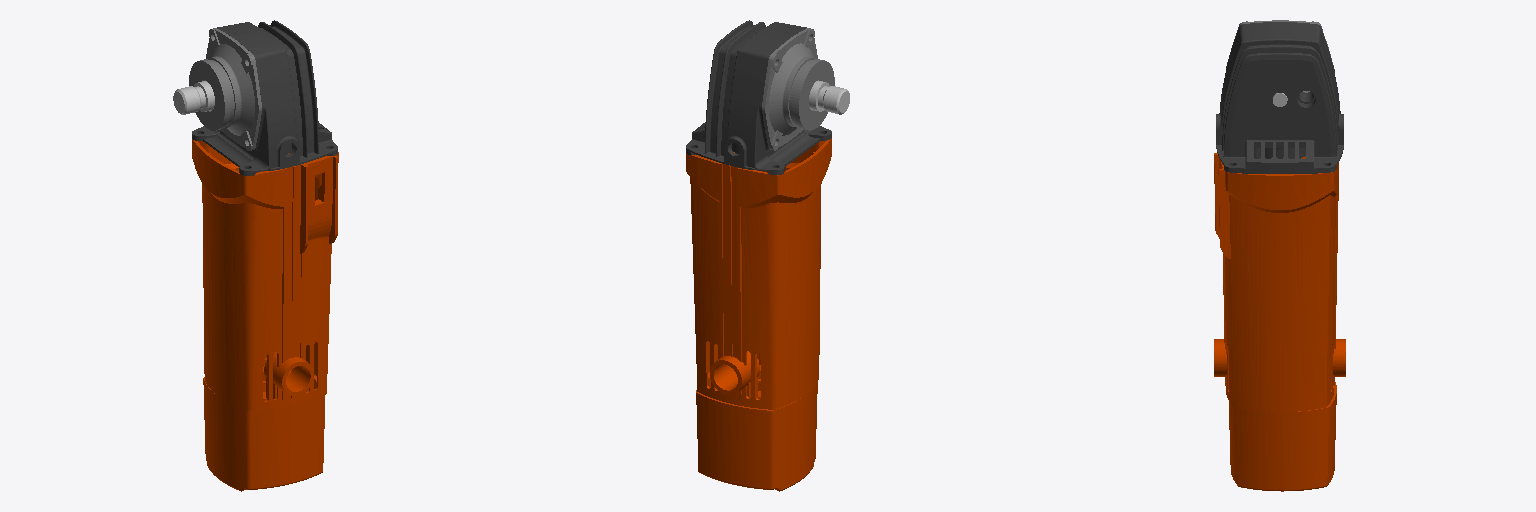
URDF robot description (grinder):
<?xml version="1.0" ?>
<robot name="grinder">
  <link name="baseLink">
    <contact>
      <lateral_friction value="5.0"/>
      <rolling_friction value="0.3"/>
      <contact_cfm value="0.3"/>
      <contact_erp value="0.8"/>
      <damping value="1.0"/>
    </contact>
    <inertial>
      <origin rpy="0 0 0" xyz="0 0 0.0"/>
       <mass value="1"/>
       <inertia ixx="1" ixy="0" ixz="0" iyy="1" iyz="0" izz="5"/>
    </inertial>
    <visual>
      <origin rpy="0 0 0" xyz="30 0 0"/>
      <geometry>
		<mesh filename="mesh/noname_housing01.stl"/>
      </geometry>
       <material name="orange">
        <color rgba="0.8 0.3 0.0 1"/>
      </material>
    </visual>
    <collision>
      <origin rpy="0 0 0" xyz="30 0 0"/>
      <geometry>
        <mesh filename="mesh/noname_housing01.stl"/>
      </geometry>
    </collision>
  </link>
    <link name="housing02">
    <visual>
      <origin rpy="0 0 0" xyz="30 0 0"/>
      <geometry>
		<mesh filename="mesh/noname_housing02.stl"/>
      </geometry>
       <material name="dark">
        <color rgba="0.3 0.3 0.3 1"/>
      </material>
    </visual>
  </link>
  <link name="housing03">
    <visual>
      <origin rpy="0 0 0" xyz="30 0 0"/>
      <geometry>
		<mesh filename="mesh/noname_housing03.stl"/>
      </geometry>
       <material name="grey1">
        <color rgba="0.5 0.5 0.5 1"/>
      </material>
    </visual>
  </link>
  <link name="axle">
    <visual>
      <origin rpy="0 0 0" xyz="30 0 0"/>
      <geometry>
		<mesh filename="mesh/noname_axle.stl"/>
      </geometry>
       <material name="grey2">
        <color rgba="0.75 0.75 0.75 1"/>
      </material>
    </visual>
  </link>
  <joint name="l1" type="fixed">
      <parent link="baseLink"/>
      <child link="housing02"/>
      <origin xyz="0 0 0" rpy="0 0 0"/>
  </joint>
  <joint name="l2" type="fixed">
      <parent link="baseLink"/>
      <child link="housing03"/>
      <origin xyz="0 0 0" rpy="0 0 0"/>
  </joint>
  <joint name="l3" type="fixed">
      <parent link="baseLink"/>
      <child link="axle"/>
      <origin xyz="0 0 0" rpy="0 0 0"/>
  </joint>
</robot>

--- What the picture shows (computed from the rendered views, not written in the file) ---
Views: 3 orthographic renders of the robot side by side, from view 1: azimuth 30°, elevation 25°; view 2: azimuth 150°, elevation 25°; view 3: azimuth 270°, elevation 25°.
Robot: grinder — 4 links, 3 joints (3 fixed); root link baseLink; default pose: every joint at zero.
Visible links, largest first — view 1: baseLink, housing02, housing03, axle; view 2: baseLink, housing02, housing03, axle; view 3: baseLink, housing02.
Boxes of the visible links, box(x1,y1,x2,y2) form: baseLink: box(192, 139, 338, 491); housing02: box(192, 20, 337, 175); housing03: box(189, 28, 261, 150); axle: box(173, 80, 214, 114); baseLink: box(686, 138, 831, 491); housing02: box(686, 20, 831, 174); housing03: box(762, 28, 834, 150); axle: box(809, 80, 849, 114); baseLink: box(1214, 153, 1345, 491); housing02: box(1216, 22, 1343, 173).
Bounding box of the posed robot: 85.5 × 70.1 × 256 m (x, y, z).
4 mesh visuals loaded from 4 distinct referenced files (4 binary STL).